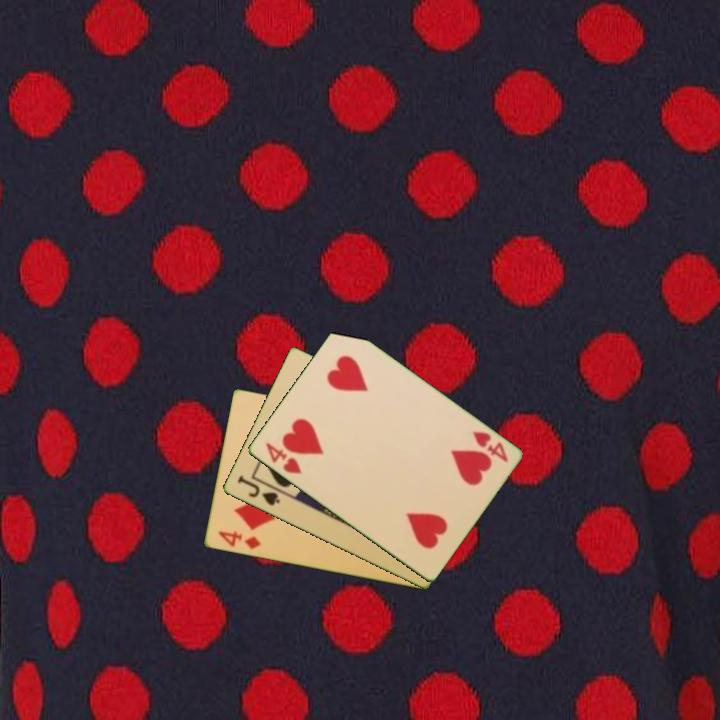4d: (215, 528, 264, 552)
4h: (262, 439, 305, 477), (469, 428, 511, 465)
Js: (233, 472, 283, 509)
